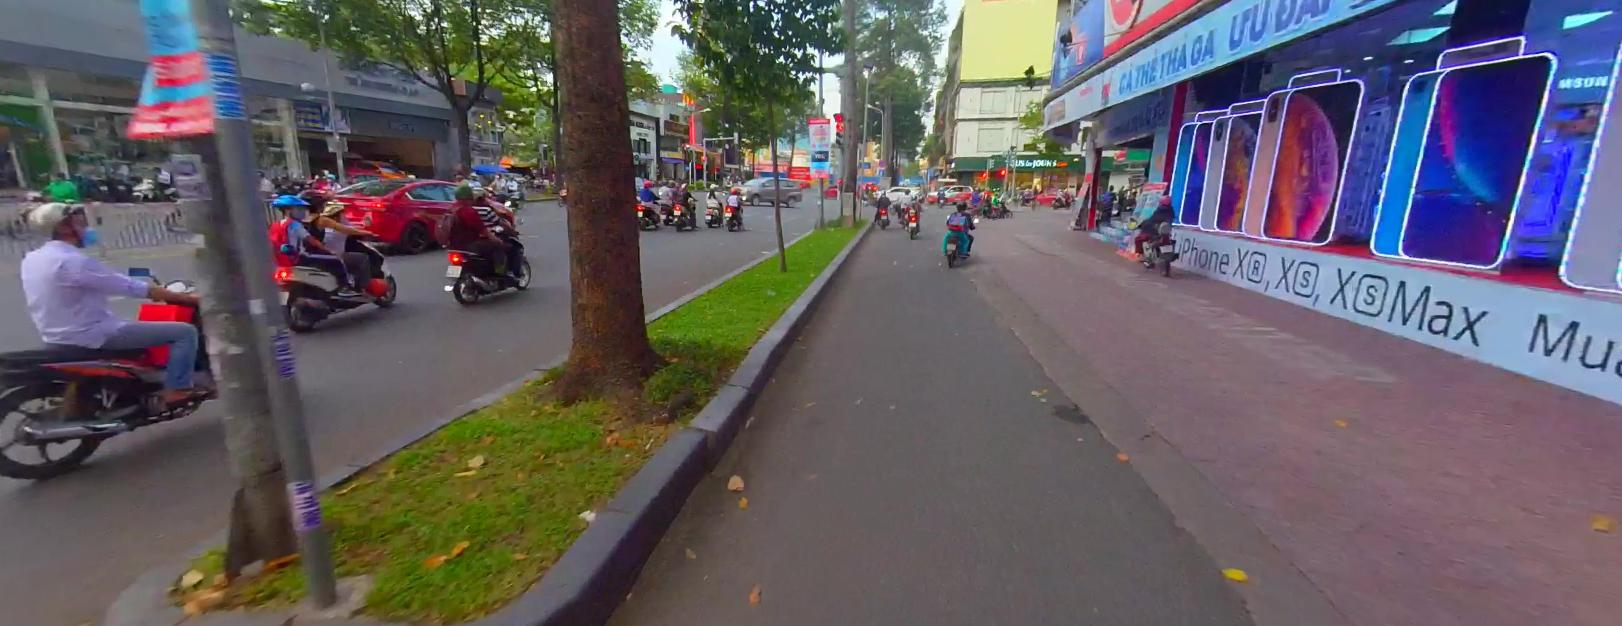Cam dung va do: (878, 159, 885, 165)
